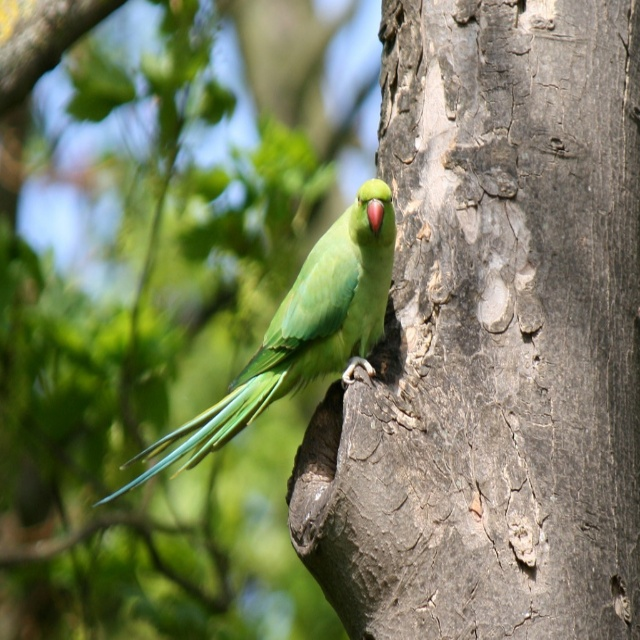Parrot: (91, 177, 396, 512)
